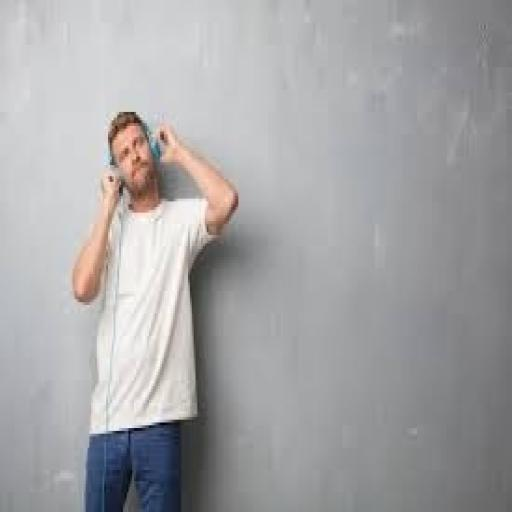listening_to_music: (69, 106, 242, 510)
